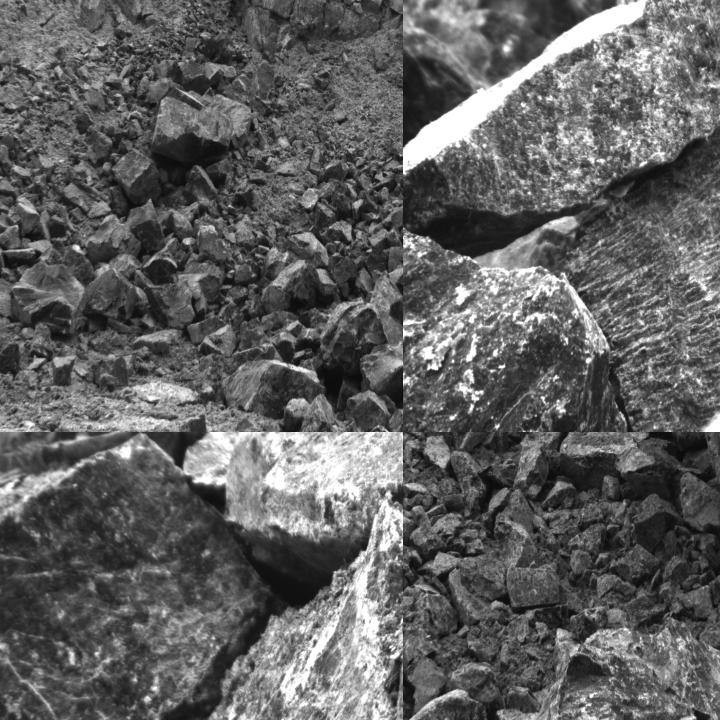stone: (0, 432, 288, 719), (403, 0, 719, 260), (561, 0, 719, 431), (123, 497, 402, 719), (403, 190, 628, 431), (524, 634, 700, 719), (592, 613, 719, 719), (218, 358, 326, 420), (10, 263, 88, 337), (319, 297, 388, 380), (170, 83, 254, 151), (151, 97, 232, 166), (553, 432, 650, 489), (614, 432, 678, 504), (87, 264, 155, 322), (226, 317, 286, 375), (136, 274, 194, 330), (675, 472, 719, 545), (260, 260, 320, 312), (34, 237, 94, 287), (112, 151, 162, 208), (403, 689, 487, 719), (125, 199, 167, 255), (507, 566, 560, 610), (256, 246, 303, 294), (277, 230, 331, 270), (142, 237, 187, 285), (514, 440, 550, 499), (452, 452, 488, 510), (610, 544, 661, 584), (192, 209, 229, 263), (344, 390, 392, 431), (633, 494, 665, 550), (172, 58, 214, 96), (295, 393, 336, 431), (184, 165, 218, 208), (568, 524, 605, 562), (130, 328, 184, 352), (309, 201, 337, 245), (297, 302, 338, 332), (198, 324, 238, 354), (279, 398, 311, 431), (204, 62, 237, 94), (224, 72, 258, 103), (423, 435, 450, 473), (28, 321, 54, 360), (449, 432, 493, 454), (329, 184, 355, 221), (329, 252, 358, 284), (16, 196, 39, 235), (49, 355, 76, 387), (329, 0, 394, 13), (0, 340, 23, 376), (234, 258, 261, 286), (219, 302, 244, 327), (368, 228, 388, 254), (379, 209, 402, 231), (296, 328, 320, 348), (356, 267, 372, 297), (227, 285, 250, 303), (387, 246, 402, 272), (367, 253, 388, 271), (182, 237, 197, 257)
